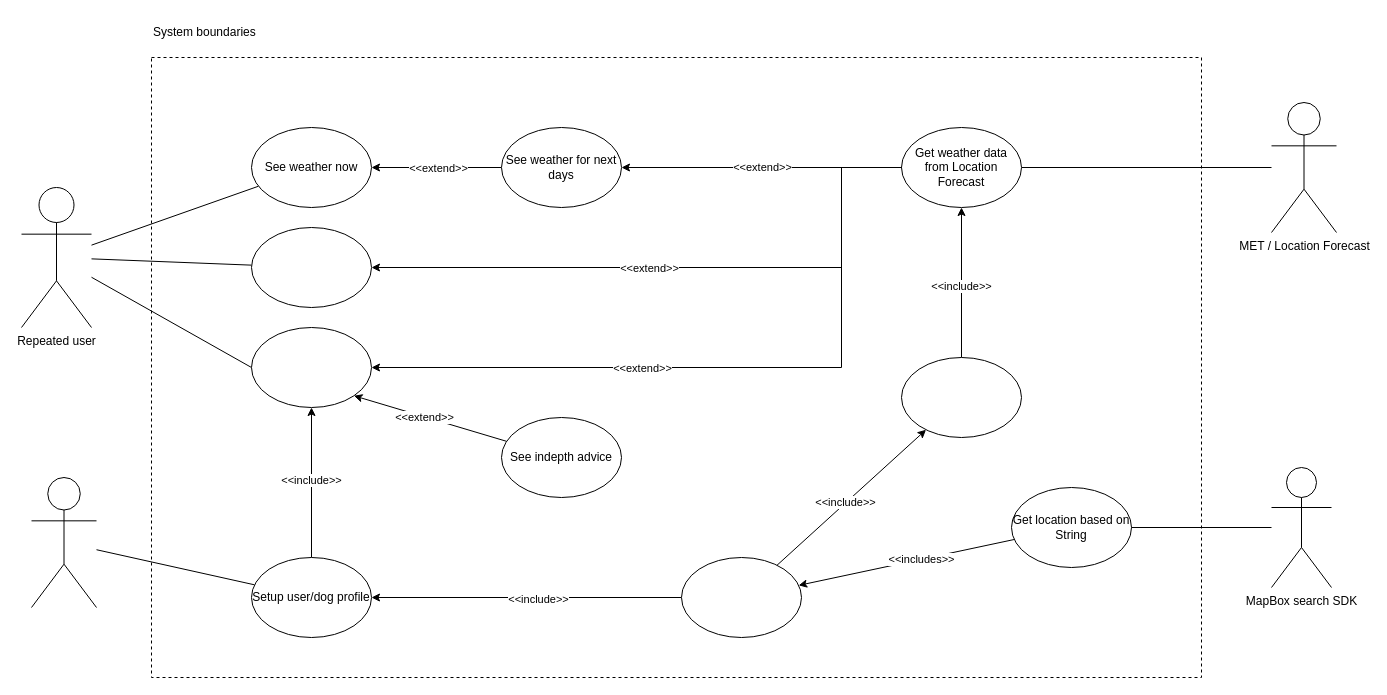
The diagram is 1387 pixels wide and 695 high, and some of its shapes have lost their labels. Here are the shapes that lost their labels. From the top down, the centre of each, then its label:
At (311,267): "See best times to walk dog as graph".
At (311,367): "See advice based on weather".
At (961,397): "Get user location".
At (63,542): "New User".
At (741,597): "Set user location".
